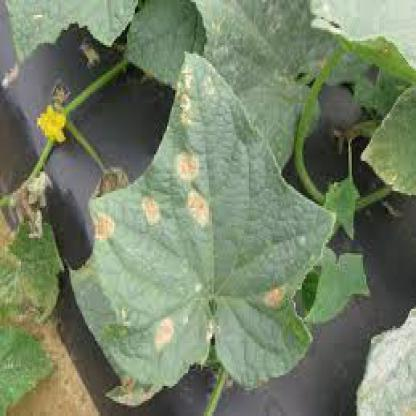AlternariaBrassicicola: (85, 204, 127, 244), (188, 186, 215, 242), (170, 150, 209, 187), (149, 309, 177, 356), (259, 277, 292, 313), (140, 193, 164, 236)
